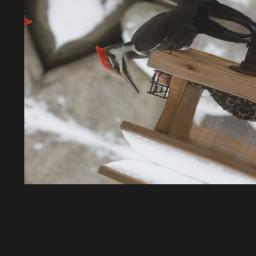Woodpecker: (75, 0, 256, 124)
